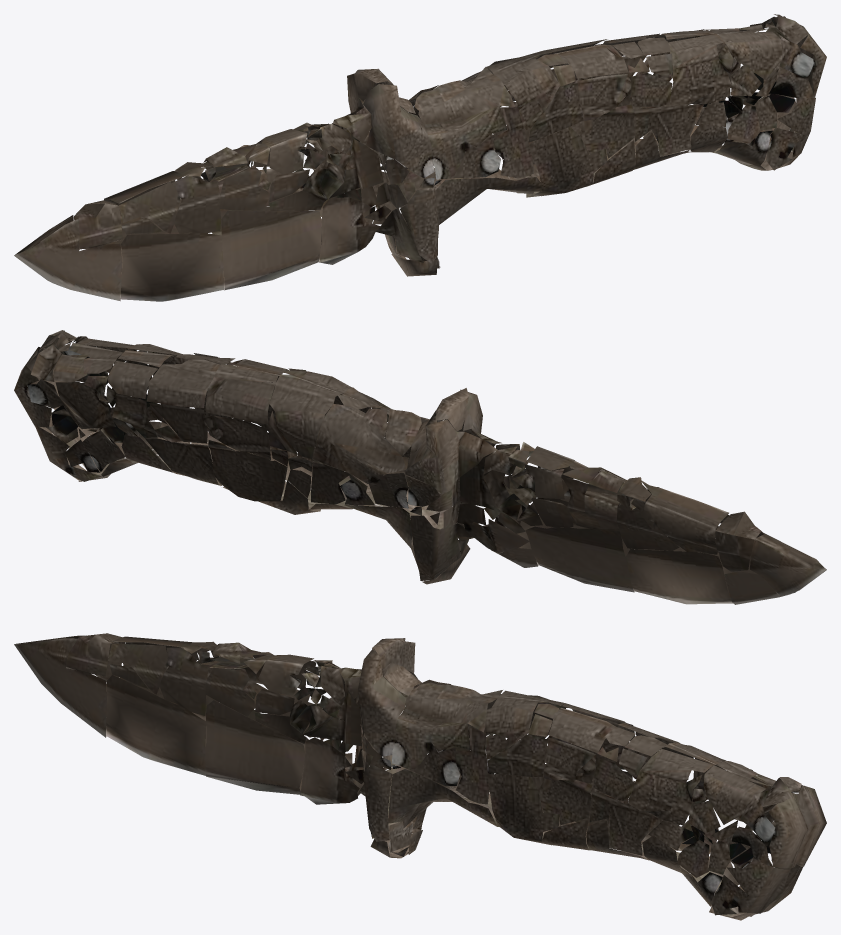
Rendered from litecoin-knife.glb.
3 renders of one model, top to bottom at view 1: azimuth 30°, elevation 25°; view 2: azimuth 150°, elevation 25°; view 3: azimuth 330°, elevation 25°, orthographic.
Parts seen in each view (by area): view 1: HMH Weapon | litecoin-knife; view 2: HMH Weapon | litecoin-knife; view 3: HMH Weapon | litecoin-knife.
Part boxes in pixels (left/top/right/bottom): HMH Weapon | litecoin-knife: left=14, top=14, right=826, bottom=301; HMH Weapon | litecoin-knife: left=14, top=330, right=826, bottom=604; HMH Weapon | litecoin-knife: left=14, top=633, right=826, bottom=920.
Size of the model in its own units: 0.3399 by 0.081 by 0.0422.
1 material, 1 textured.
